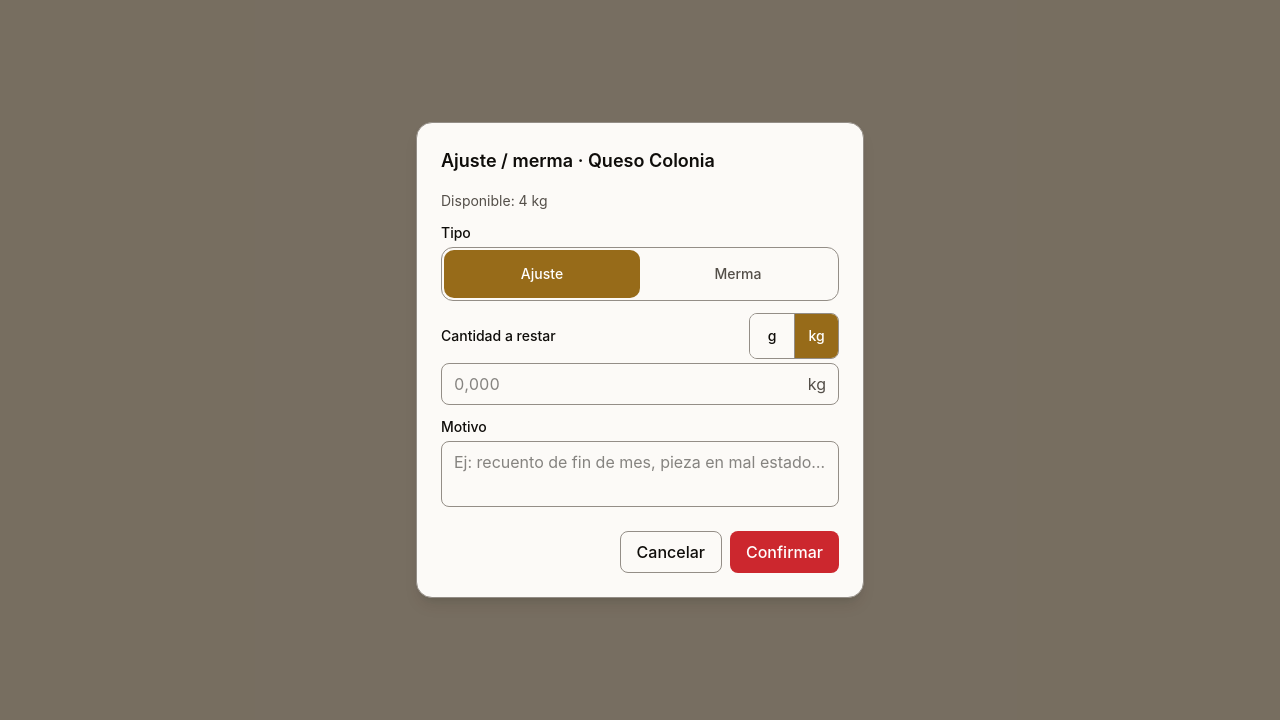
ModalAjusteNegativo - por pieza › error StockInsuficienteError: toast claro y no cierra
Type "9" into the field labelled "Cantidad a restar" at point(629, 384), box top-left (454, 372), bottom-right (804, 396)
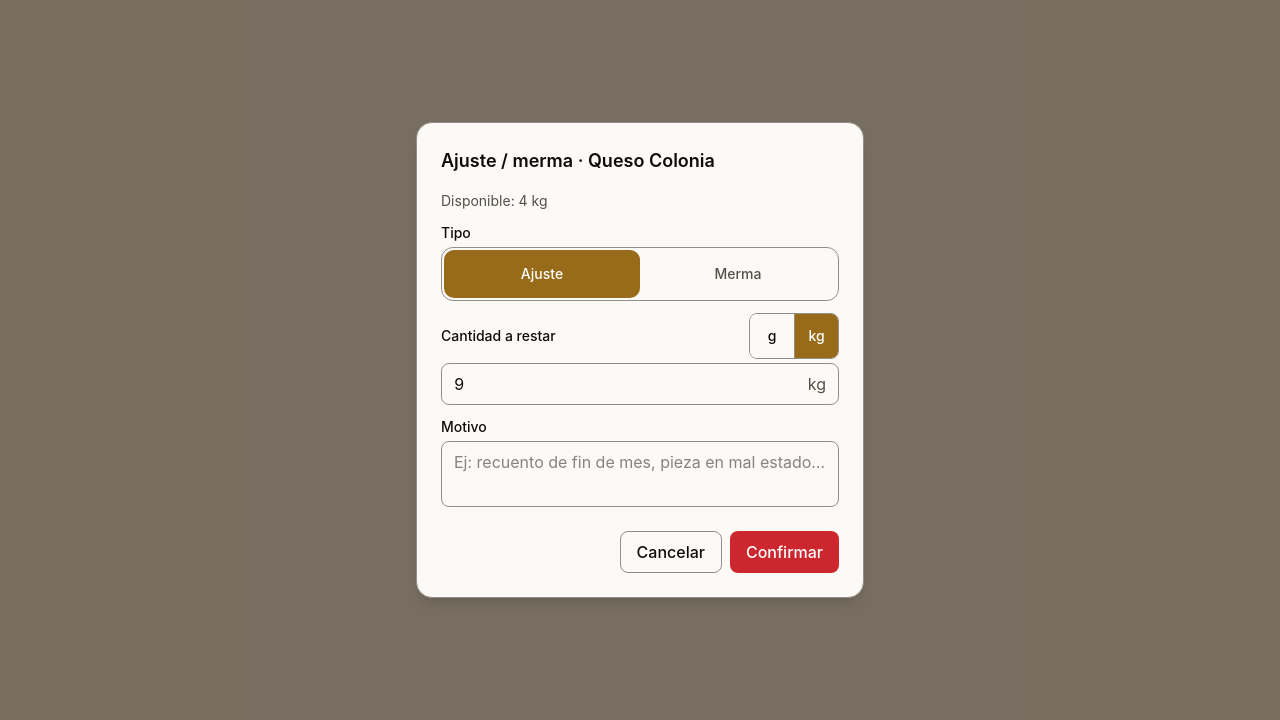
Type "prueba" into the text box labelled "Motivo" at point(640, 474), box top-left (441, 441), bottom-right (839, 507)
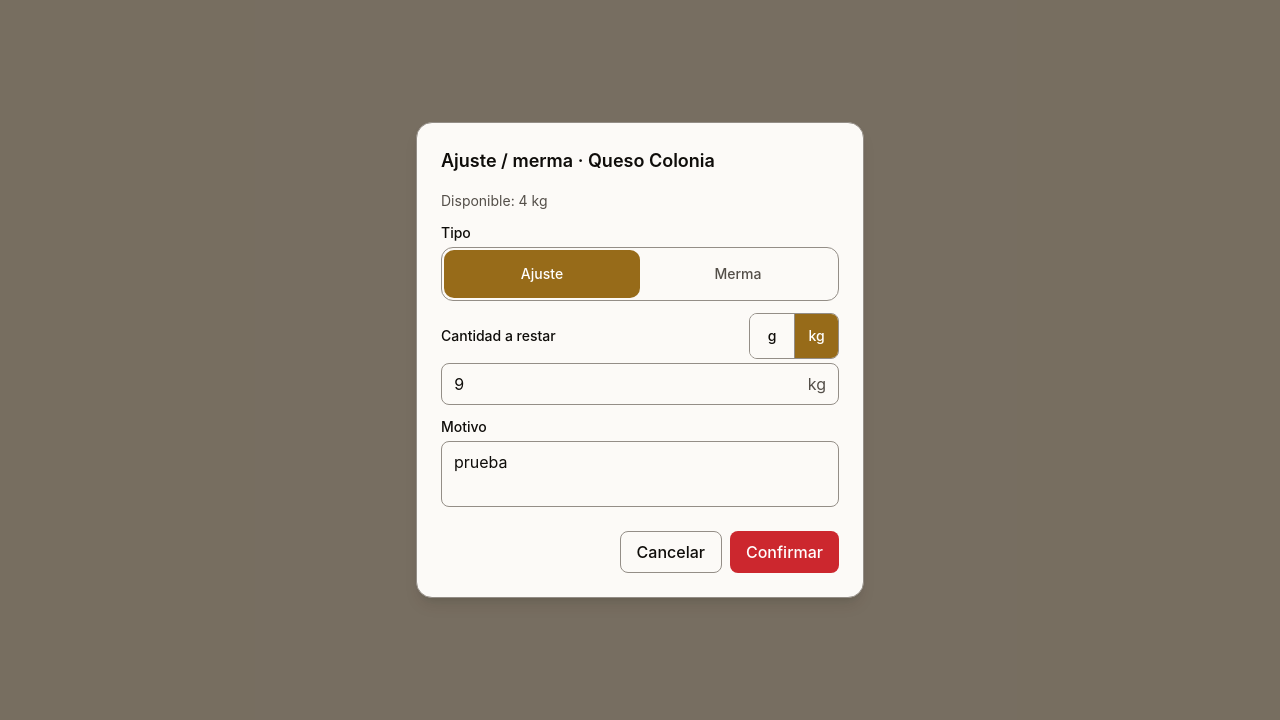
Click the button "Confirmar" at point(784, 552), box top-left (730, 531), bottom-right (839, 573)
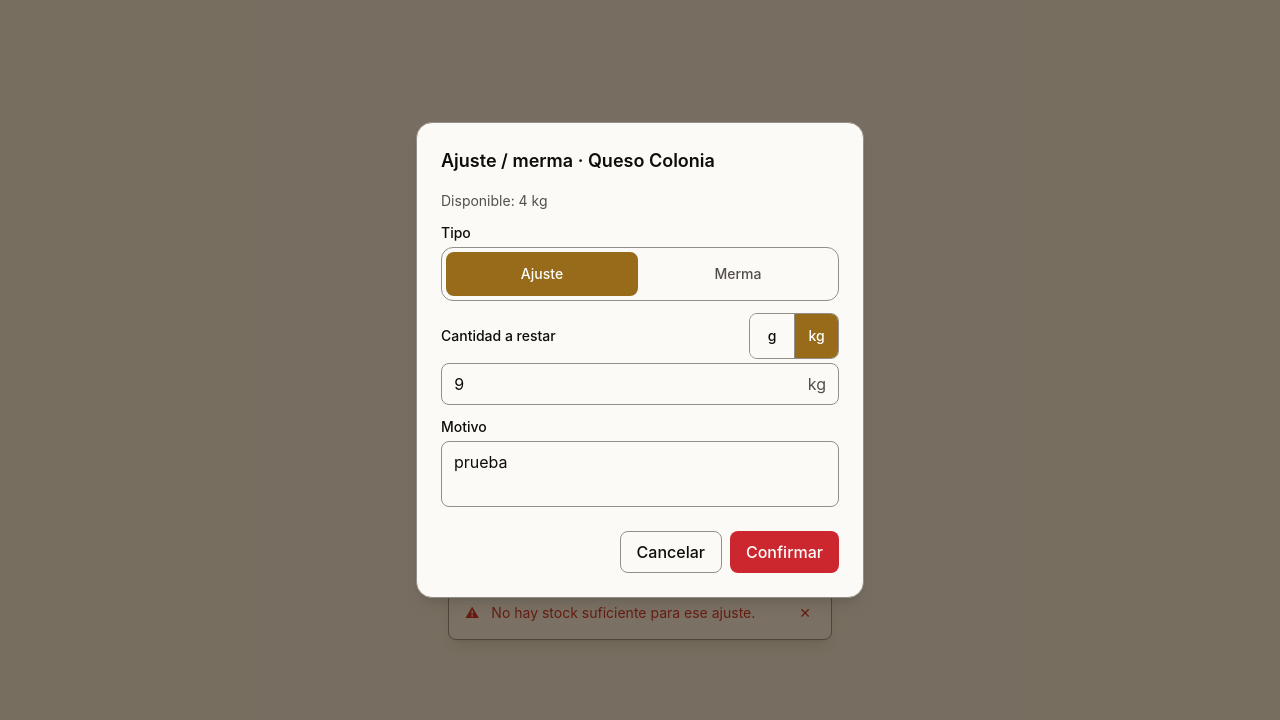
Result: the text "No hay stock suficiente para ese ajuste." is shown at top-left (491, 603), bottom-right (783, 623)
